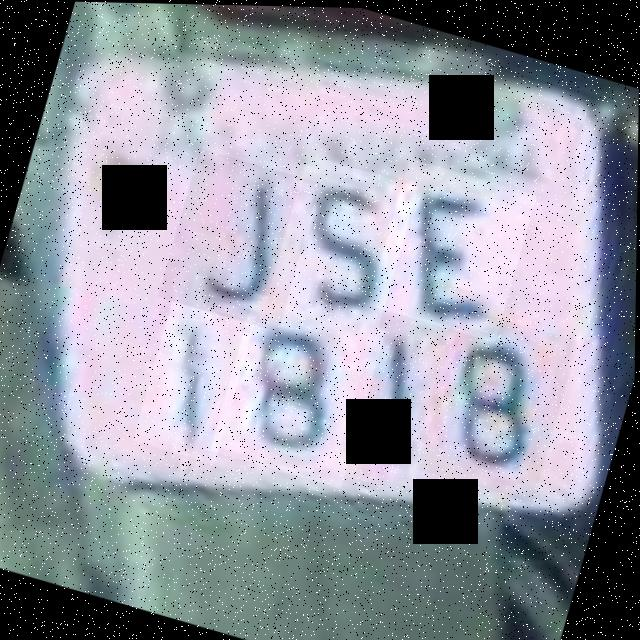1: (134, 299, 255, 464), (340, 310, 456, 472)
3: (368, 155, 537, 340)
8: (210, 291, 387, 488), (418, 305, 579, 501)
J: (158, 146, 321, 331)
S: (267, 152, 418, 327)
